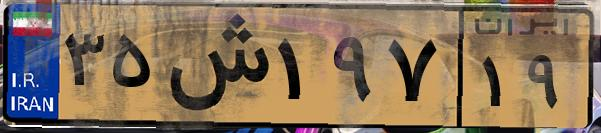1: (270, 28, 330, 110), (475, 38, 525, 113)
3: (57, 26, 110, 100)
5: (110, 28, 158, 98)
7: (385, 28, 445, 110)
9: (330, 28, 385, 110), (525, 38, 570, 115)
ش: (158, 12, 270, 120)
